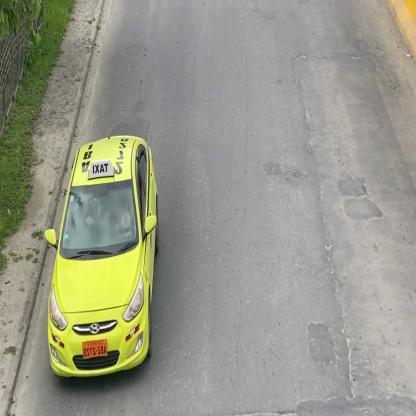Placa: (80, 337, 108, 363)
